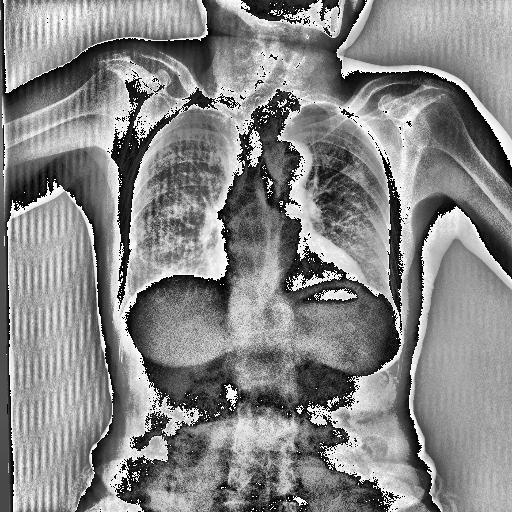0- Aortic enlargement: (224, 132, 328, 205), (231, 141, 313, 184), (264, 136, 316, 193)
2- Calcification: (231, 141, 313, 184)
3- Cardiomegaly: (204, 224, 374, 298)
5- ILD: (125, 213, 200, 279), (350, 206, 392, 297)
8- Nodule-Mass: (247, 86, 303, 134), (249, 90, 302, 140)
